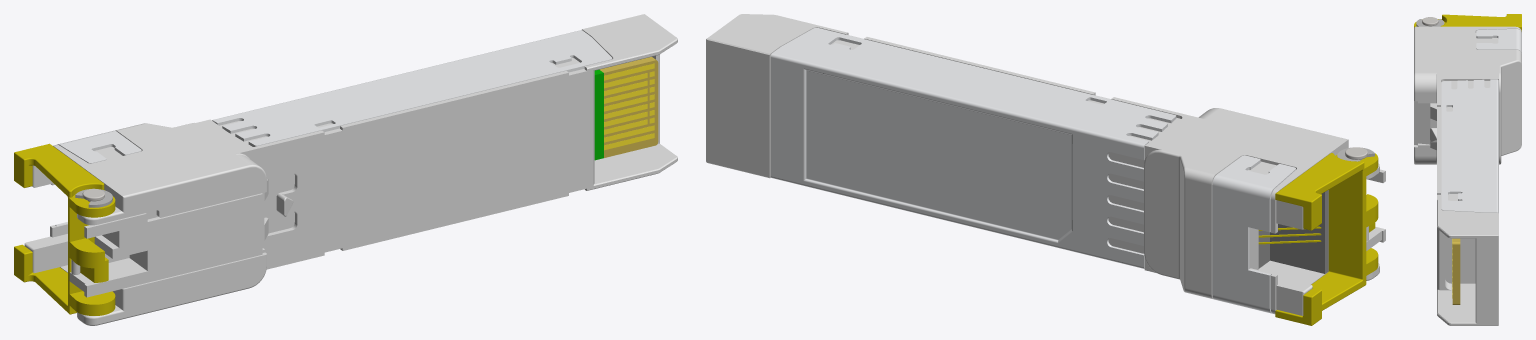
Rendered from Медный модуль.glb.
The picture shows the model from 3 angles, left to right: view 1: azimuth 30°, elevation 25°; view 2: azimuth 150°, elevation 25°; view 3: azimuth 270°, elevation 25°; orthographic projection. The views are drawn at different scales.
Parts seen in each view (by area): view 1: Subassembly_1; view 2: Subassembly_1; view 3: Subassembly_1.
Part boxes in pixels (bbox=[...]): Subassembly_1: bbox=[14, 14, 677, 325]; Subassembly_1: bbox=[706, 14, 1385, 325]; Subassembly_1: bbox=[1414, 14, 1521, 325].
Bounding box in the file's own units: 68 × 13 × 14.
